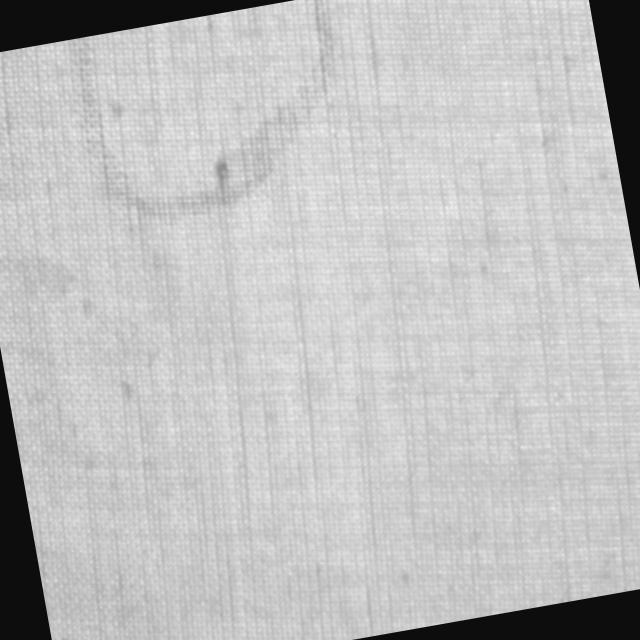oil spot: (60, 0, 369, 237)
